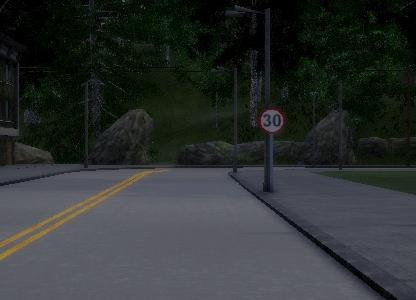Speed_30: (257, 106, 286, 136)
